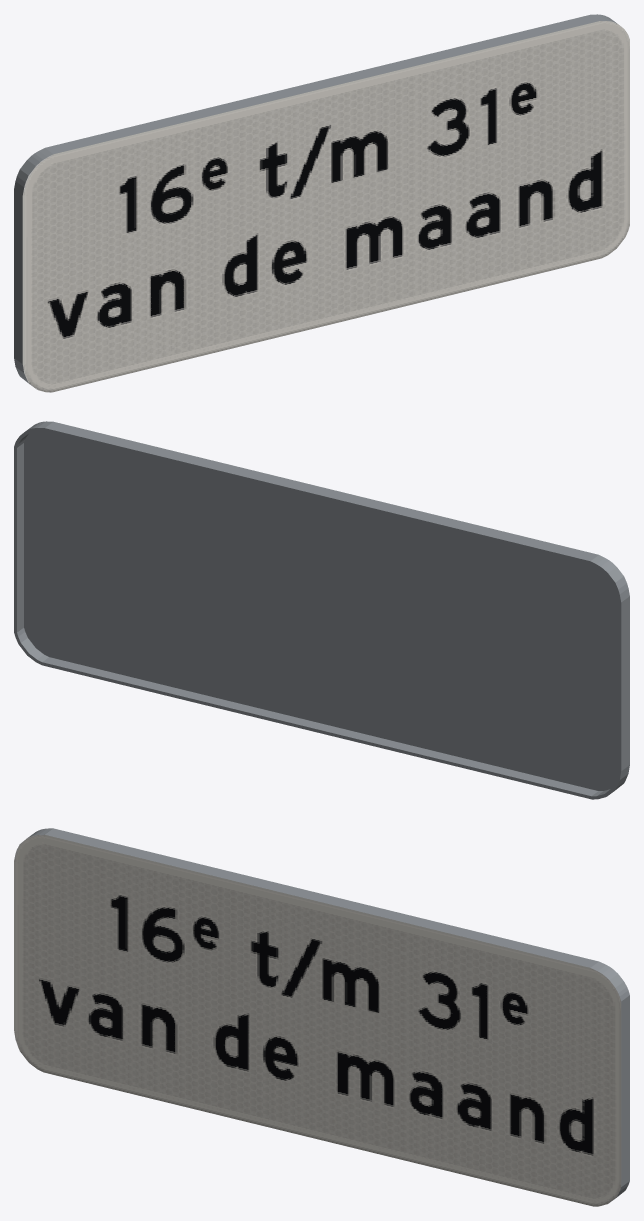
3 renders of one model, top to bottom at view 1: azimuth 30°, elevation 25°; view 2: azimuth 150°, elevation 25°; view 3: azimuth 330°, elevation 25°, orthographic.
Parts seen in each view (by area): view 1: cat_e70072c1de279e2c; view 2: cat_e70072c1de279e2c; view 3: cat_e70072c1de279e2c.
Boxes of the visible parts, left/top/right/bottom form: cat_e70072c1de279e2c: left=14, top=14, right=629, bottom=392; cat_e70072c1de279e2c: left=14, top=421, right=629, bottom=799; cat_e70072c1de279e2c: left=14, top=828, right=629, bottom=1206.
Bounding box in the file's own units: 0.6 × 0.015 × 0.2246.
Materials: 2 (1 with a texture image).
